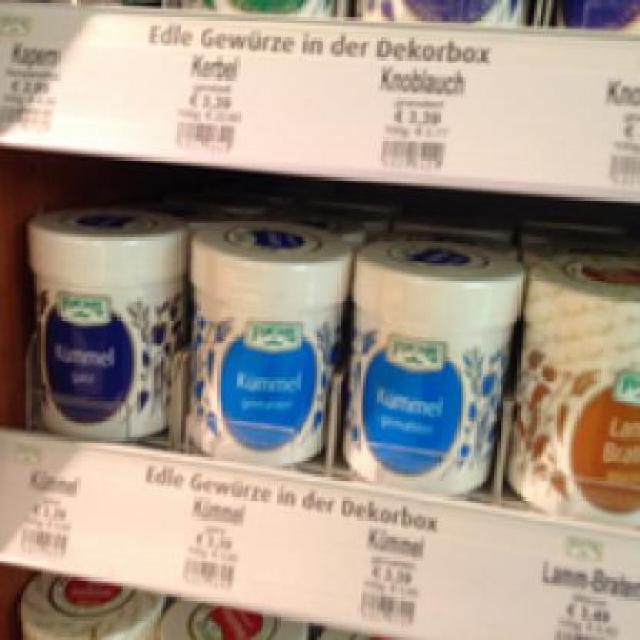Spices: (340, 233, 520, 490), (182, 214, 348, 466), (23, 202, 183, 432), (508, 252, 638, 514)
